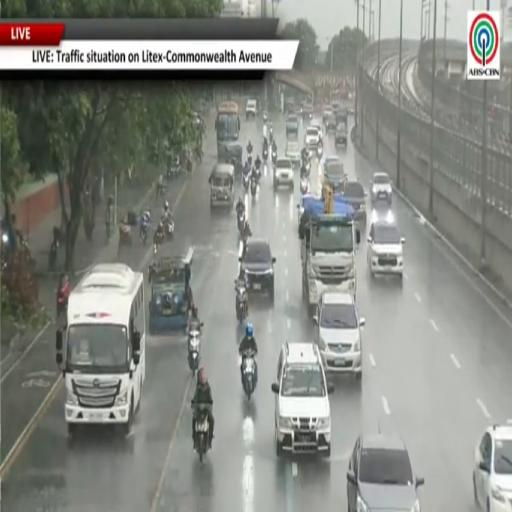bus: (56, 264, 145, 436), (215, 102, 240, 156)
car: (272, 343, 333, 456), (347, 434, 424, 511), (314, 292, 365, 380), (473, 425, 511, 511), (367, 215, 405, 279), (239, 238, 275, 299), (343, 181, 366, 221), (324, 160, 347, 193), (371, 172, 392, 205), (274, 158, 293, 188), (297, 195, 314, 227), (285, 141, 300, 168), (304, 126, 320, 150), (335, 123, 347, 147), (286, 115, 299, 137), (310, 120, 323, 140), (325, 112, 336, 133), (322, 155, 341, 167), (335, 106, 347, 125), (246, 100, 257, 119), (302, 104, 313, 121), (323, 107, 333, 124)
motorcycle: (193, 405, 211, 462), (188, 323, 203, 376), (242, 350, 256, 399), (235, 280, 247, 323), (119, 224, 131, 252), (57, 287, 68, 317), (49, 239, 58, 271), (140, 220, 149, 245), (154, 232, 164, 253), (164, 220, 174, 240), (237, 212, 245, 235), (300, 178, 309, 195), (156, 184, 165, 199), (243, 173, 250, 191), (251, 178, 257, 197), (106, 221, 111, 243), (317, 141, 323, 158), (269, 128, 273, 143), (272, 151, 276, 166), (263, 149, 268, 161), (248, 153, 252, 166)
truck: (300, 185, 360, 315), (149, 248, 193, 333), (215, 102, 242, 171)
